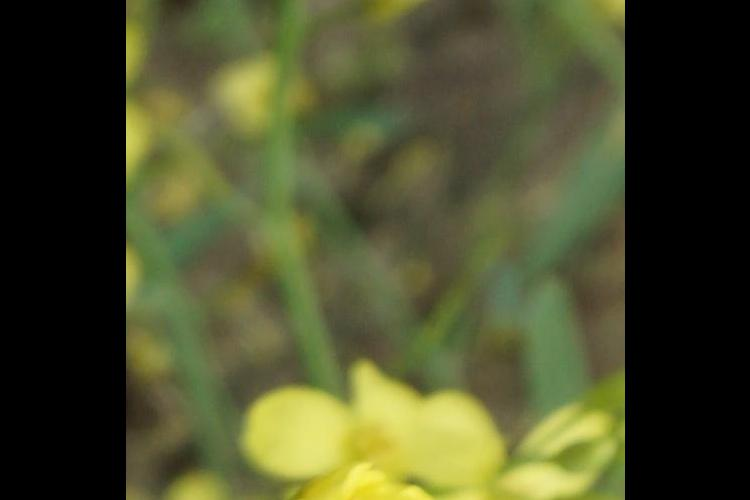yellow: (362, 376, 570, 500), (221, 402, 424, 500)
